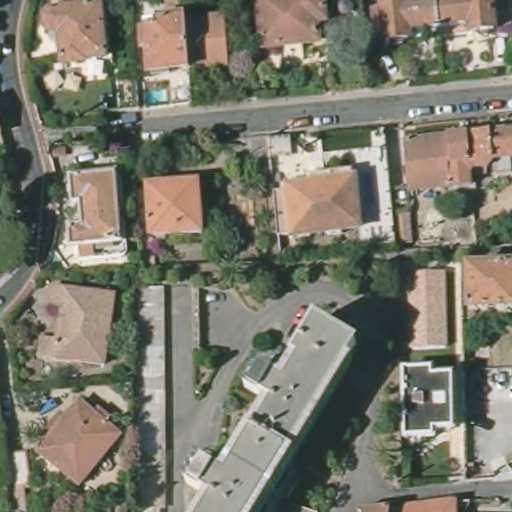pool: (144, 88, 170, 106)
